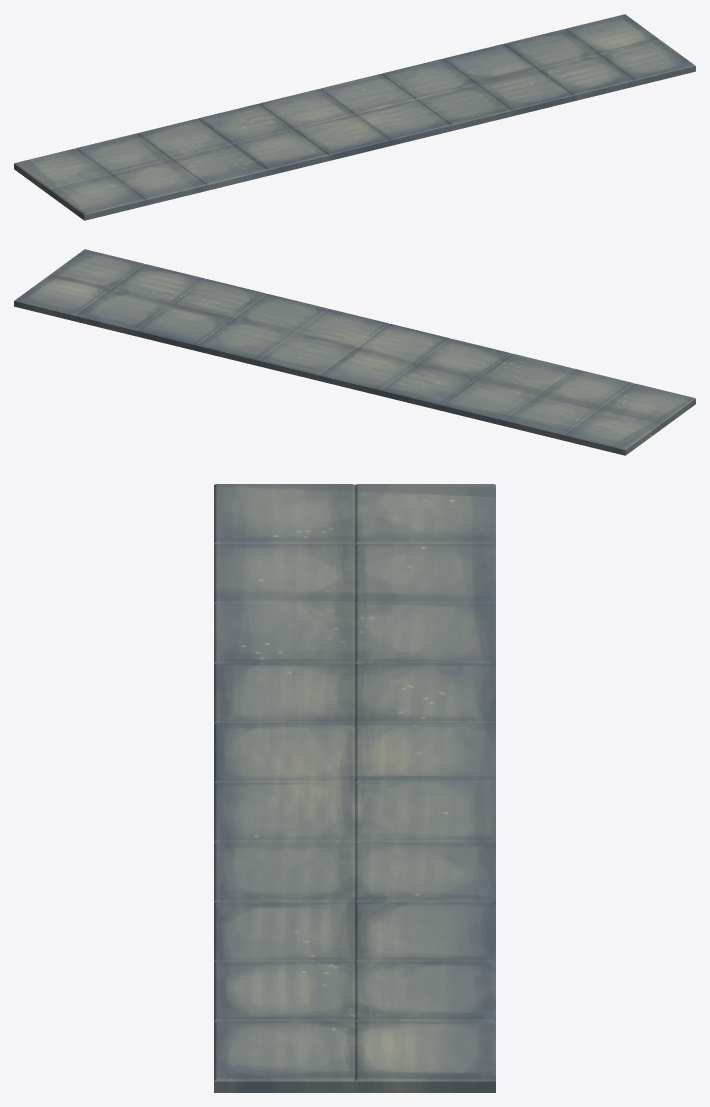
File: Sidewalk_Big.gltf
3 renders of one model, top to bottom at view 1: azimuth 30°, elevation 25°; view 2: azimuth 150°, elevation 25°; view 3: azimuth 270°, elevation 25°, orthographic. The views are drawn at different scales.
Parts seen in each view (by area): view 1: SideWalk_Big; view 2: SideWalk_Big; view 3: SideWalk_Big.
Boxes of the visible parts, x1,y1,x2,y2 form: SideWalk_Big: (14,14,695,220); SideWalk_Big: (14,249,695,455); SideWalk_Big: (214,484,495,1092).
Size of the model in its own units: 13.28 by 0.1338 by 2.65.
1 material, 1 textured.
